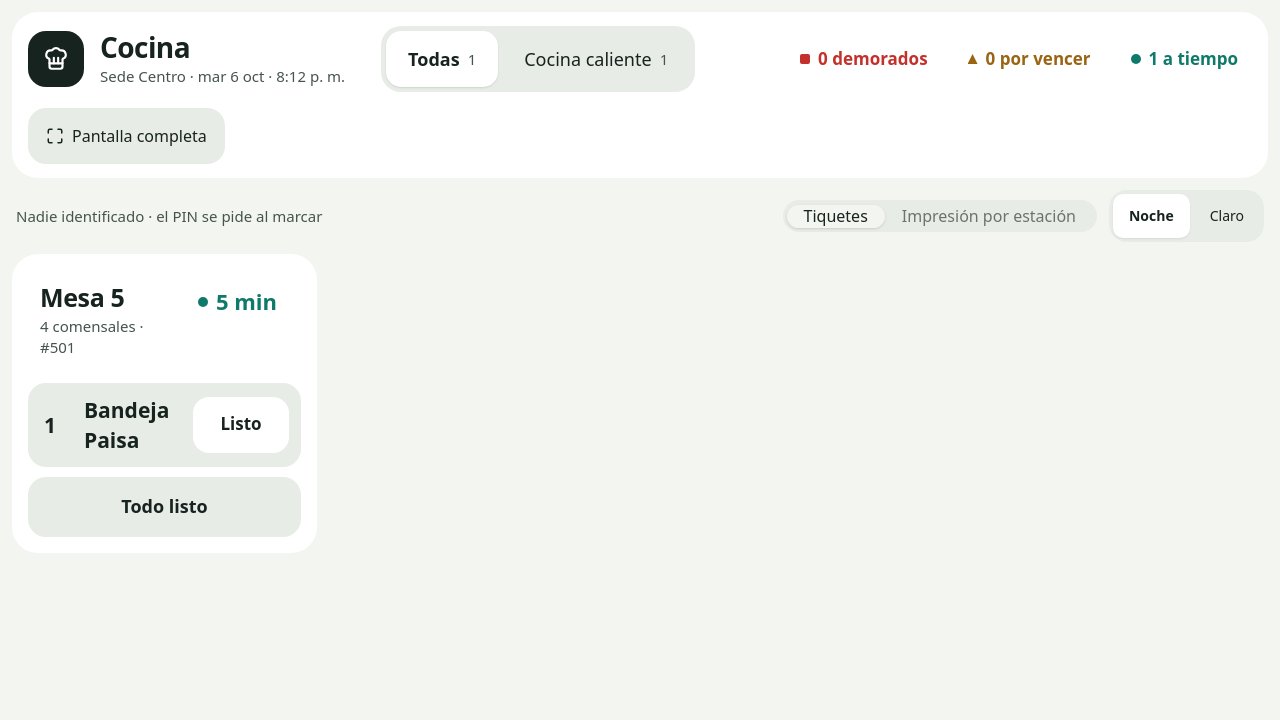
KdsPage › un PIN equivocado no marca nada y deja el error del servidor a la vista
Expected: the text "Bandeja Paisa" is shown, [84,394,181,454]
What coordinates should you click on to do the following:
click the button with aria-label "marcar listo: bandeja paisa"
I would click on:
 (241, 424)
Its box is [193,396,289,452].
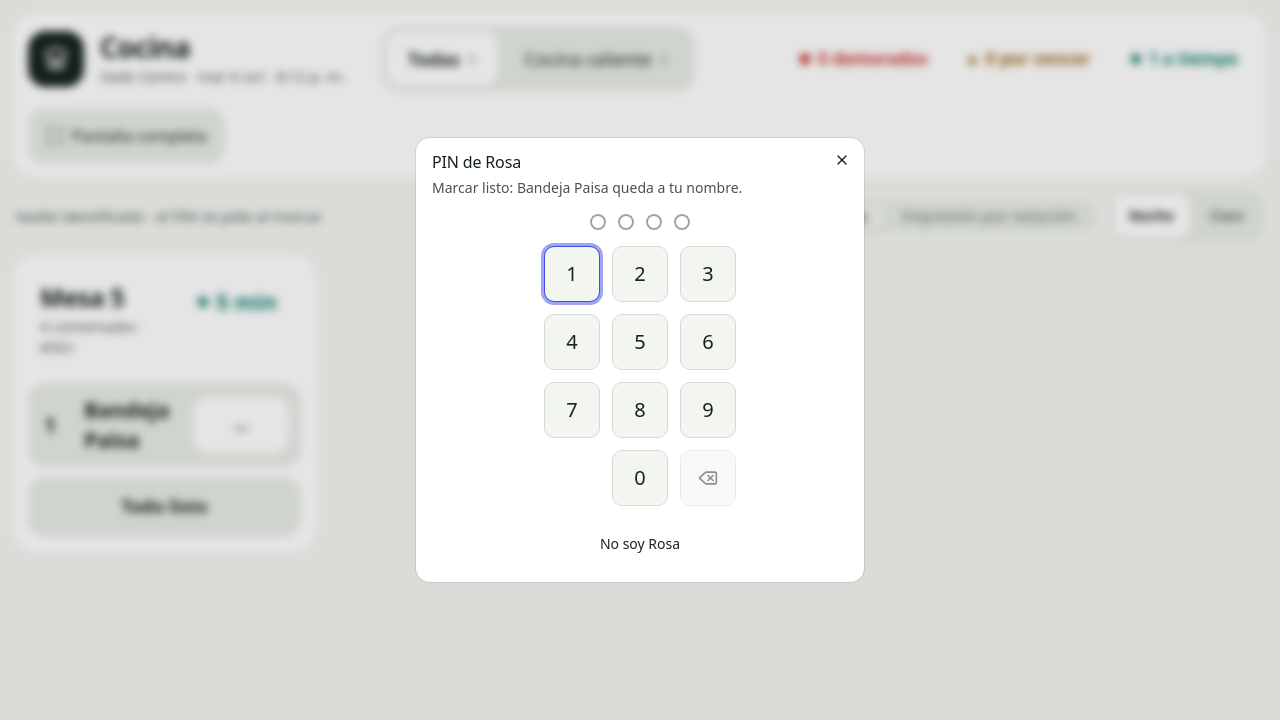
Expected: the element named "pin de rosa" is shown, [544,213,804,506]
What coordinates should you click on to do the following:
click the button "9"
I would click on:
 (708, 410)
Its box is [680,382,736,438].
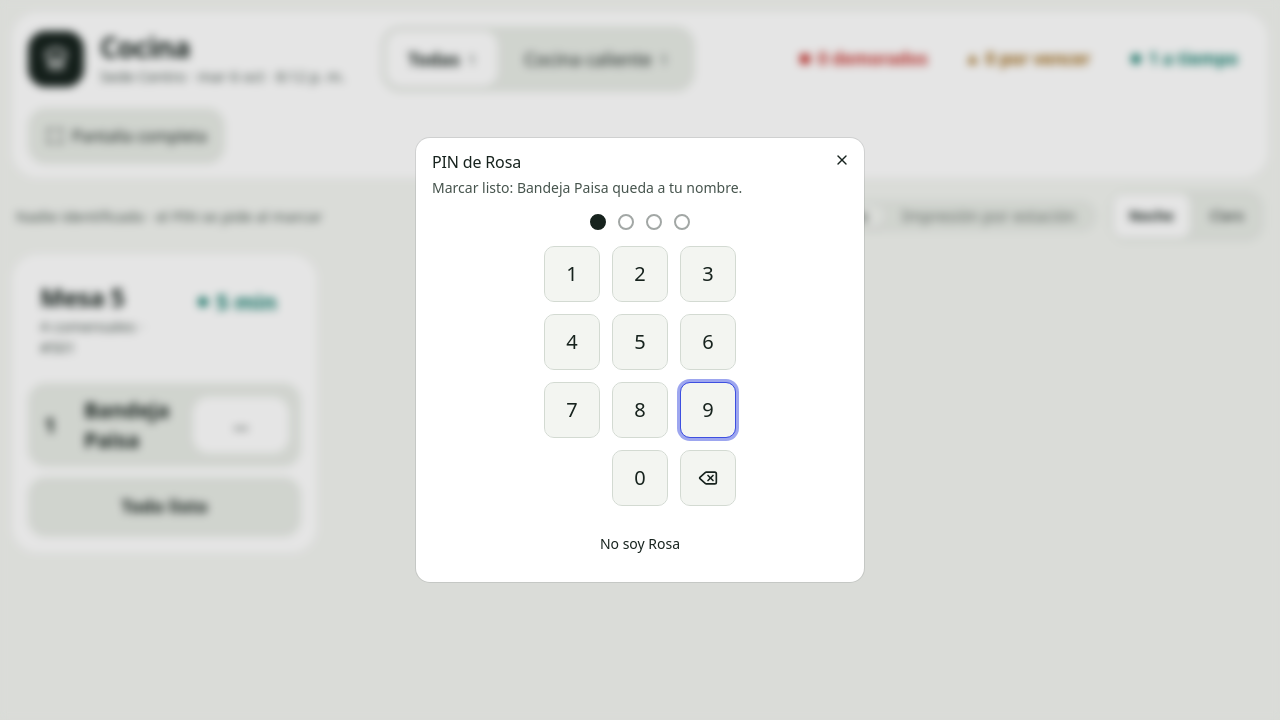
What coordinates should you click on to do the following:
click the button "9"
I would click on:
 (708, 410)
Its box is [680,382,736,438].
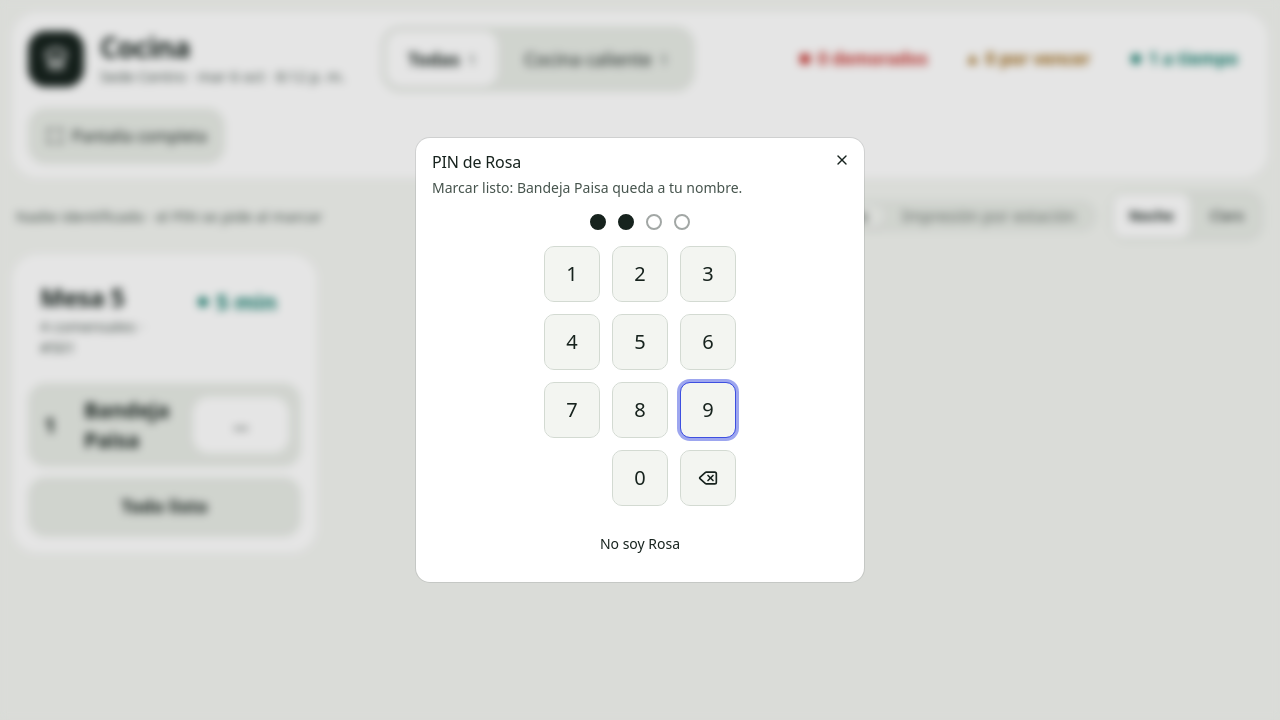
What coordinates should you click on to do the following:
click the button "9"
I would click on:
 (708, 410)
Its box is [680,382,736,438].
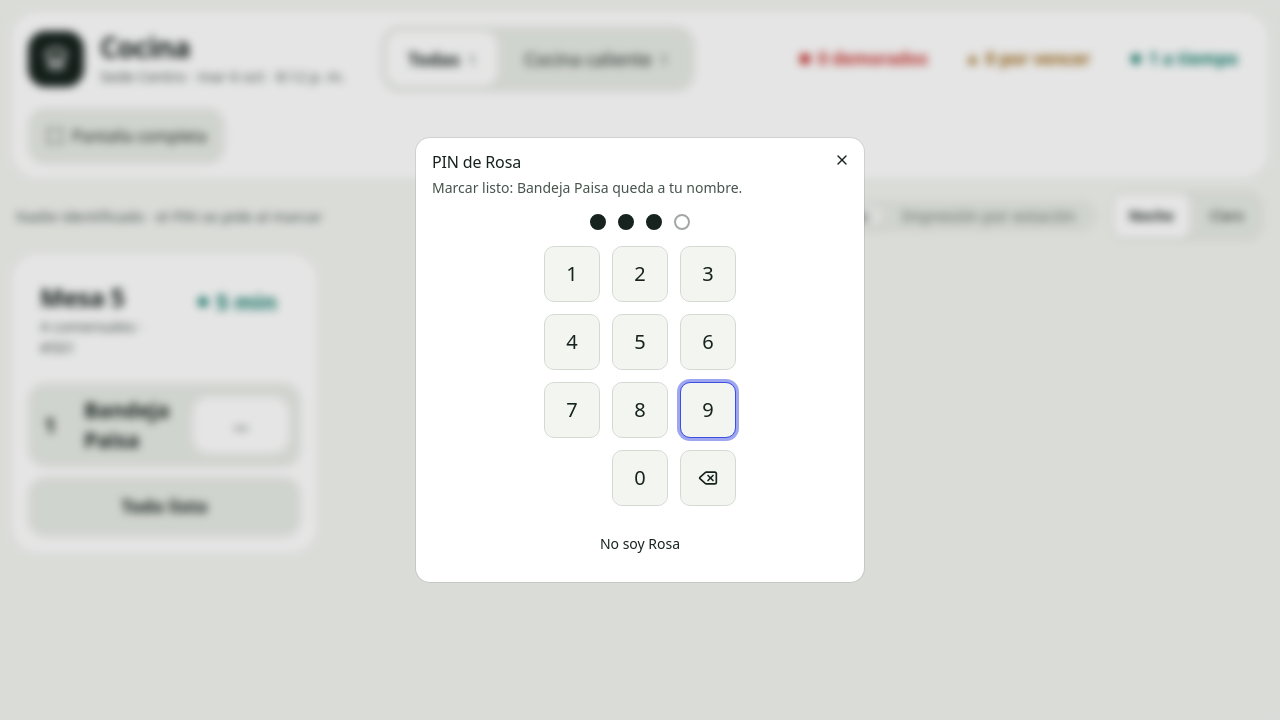
What coordinates should you click on to do the following:
click the button "9"
I would click on:
 (708, 410)
Its box is [680,382,736,438].
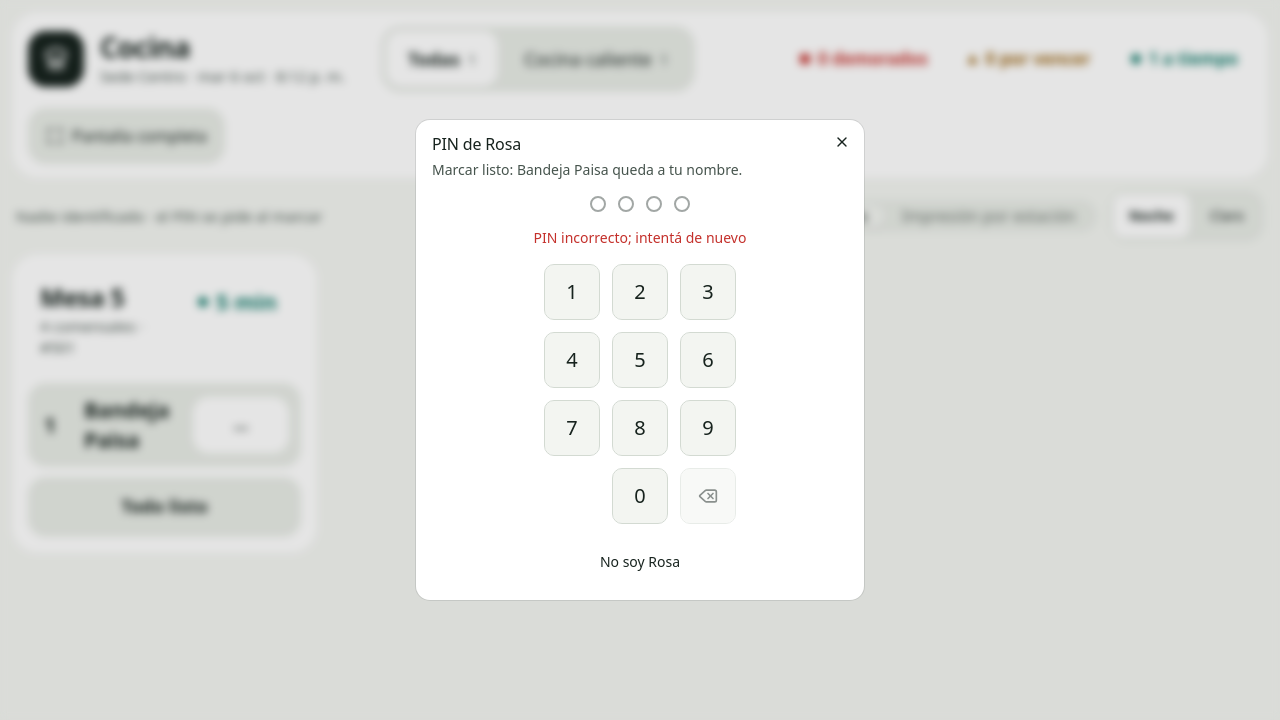
Expected: the text "PIN incorrecto; intentá de nuevo" is shown, [534,228,746,248]
